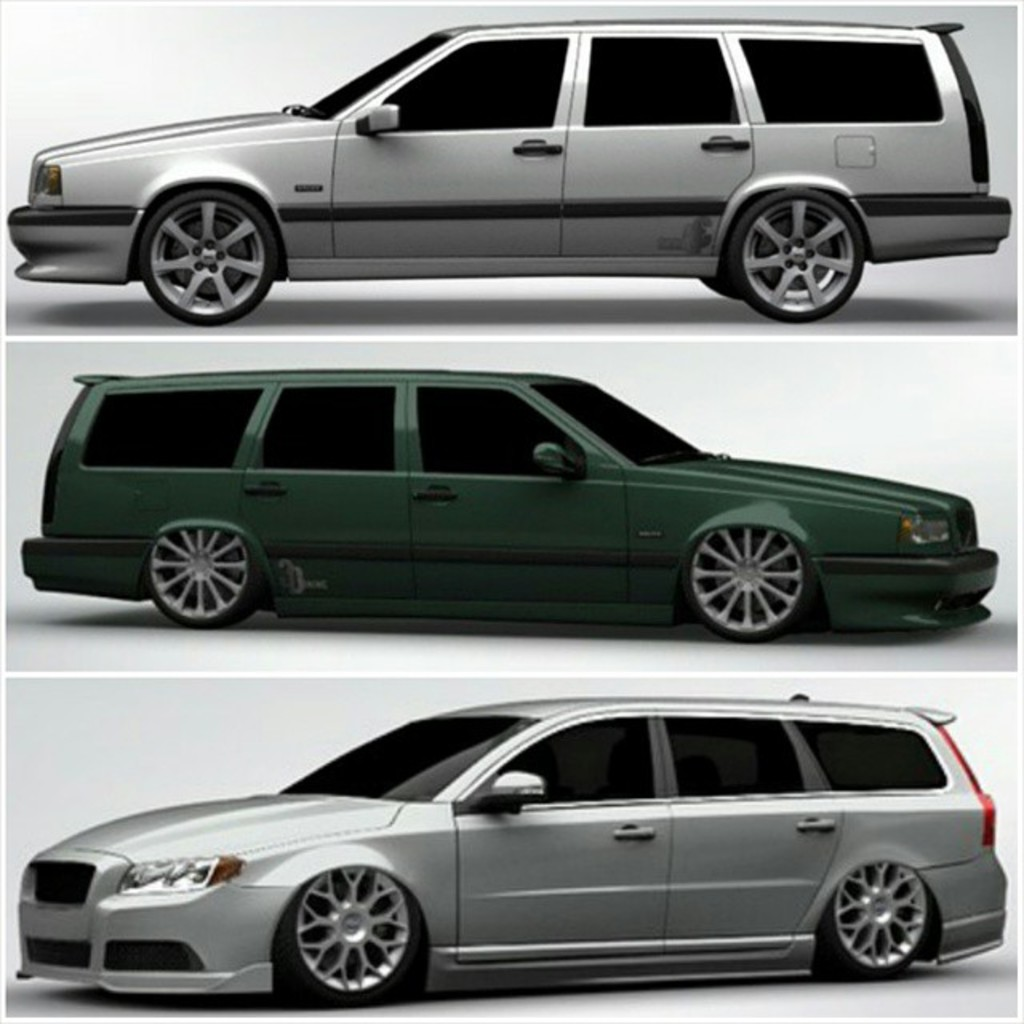Car: (4, 16, 1016, 334), (22, 692, 1006, 1008), (19, 358, 995, 644)
